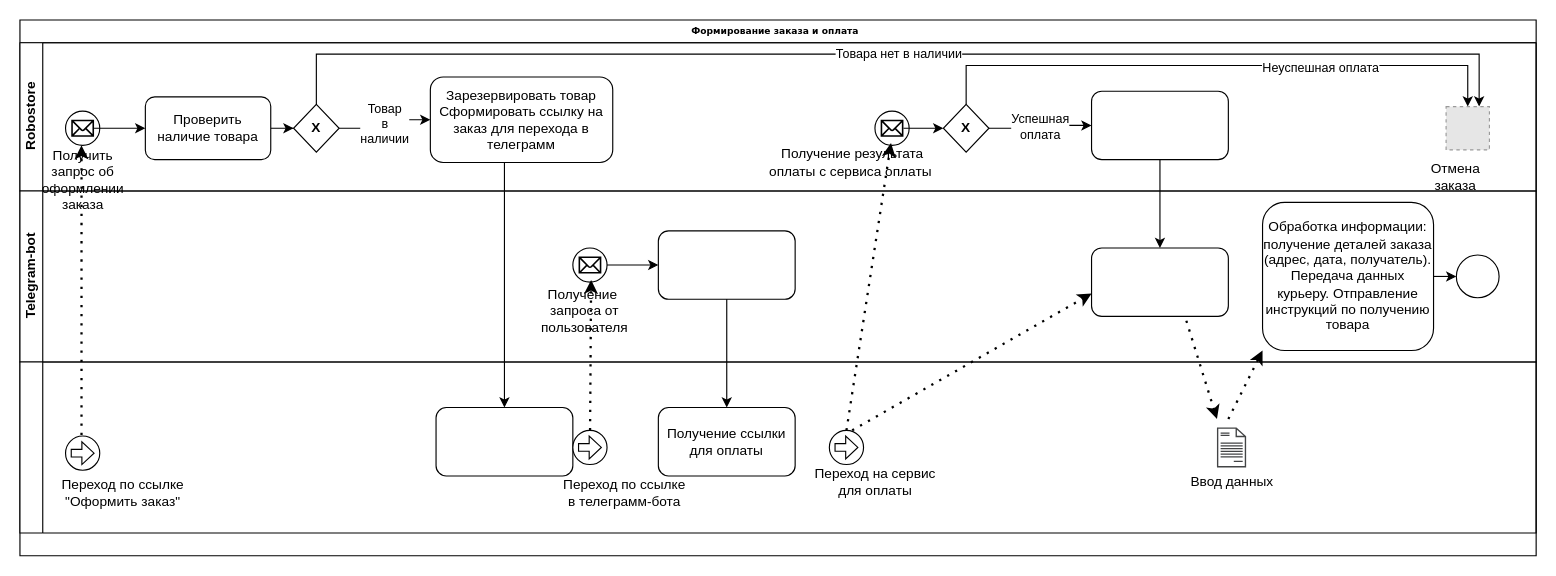
This 1556x576 diagram has some shape labels left out. Grey dashed boxes stand in for pictures. Each missing label, with the box of its shape:
Получение данных пользователя и формирование ссылки для оплаты: (657, 230, 795, 299)
Получение ссылки: (435, 406, 573, 476)
Пользователь: (19, 361, 1536, 533)
Просьба пользователей предоставить данные о доставке: (1090, 247, 1228, 316)
Сохранение заказа: (1090, 90, 1228, 160)
